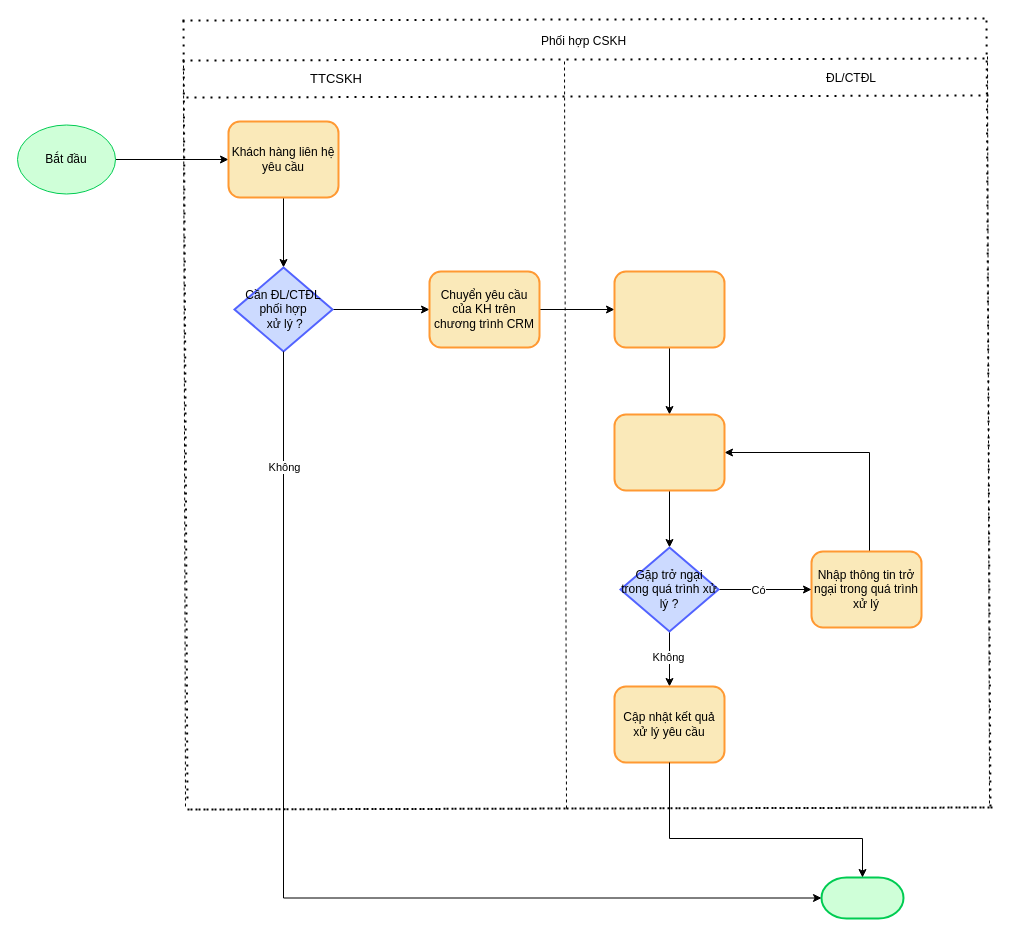
Some shapes in this 1013 by 936 pixel diagram are drawn without their labels. Here are the shapes that lost their labels. From the top down, the centre of each, then its label:
At pixel 669 309: "Tiếp nhận yêu cầu".
At pixel 669 452: "Liên hệ KH xử lý yêu cầu".
At pixel 862 897: "Kết thúc".
